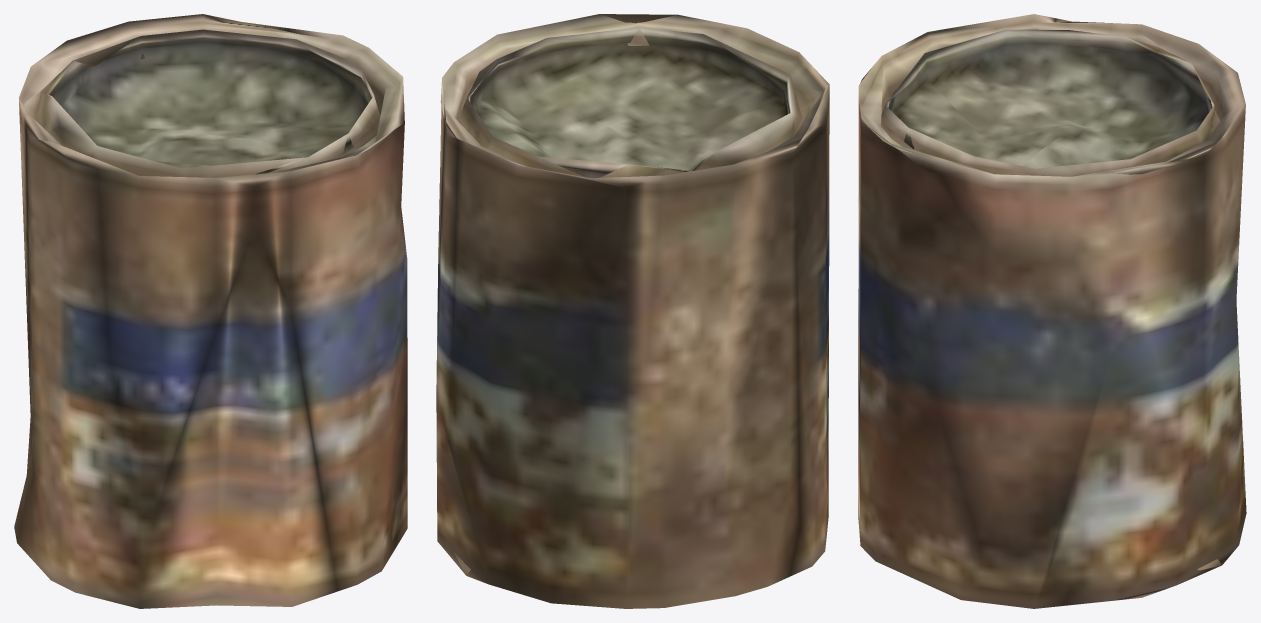
The model's file is canRusted_lo.glb.
The picture shows the model from 3 angles, left to right: view 1: azimuth 30°, elevation 25°; view 2: azimuth 150°, elevation 25°; view 3: azimuth 270°, elevation 25°; orthographic projection.
Visible parts, largest first — view 1: can_rusted; view 2: can_rusted; view 3: can_rusted.
Part boxes in pixels (x1=…): can_rusted: x1=14, y1=14, x2=407, y2=608; can_rusted: x1=436, y1=14, x2=829, y2=608; can_rusted: x1=858, y1=14, x2=1246, y2=608.
Bounding box in the file's own units: 0.1232 × 0.1512 × 0.1229.
Materials: 1 (1 with a texture image).
